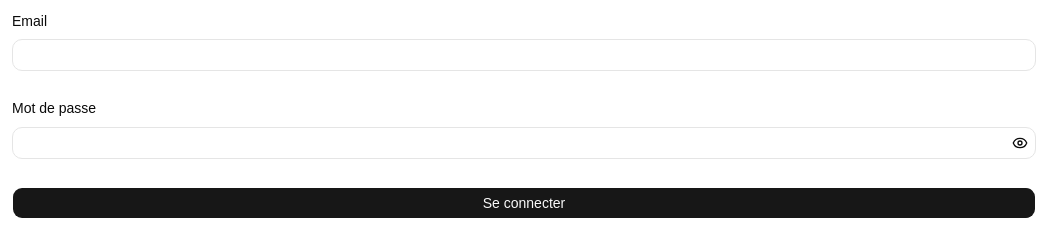
Test: LoginForm › refuses an empty password without submitting
Type "ada@example.com" into the field labelled "Email".
click(524, 55); type("ada@example.com")  # box [12,39,1036,71]
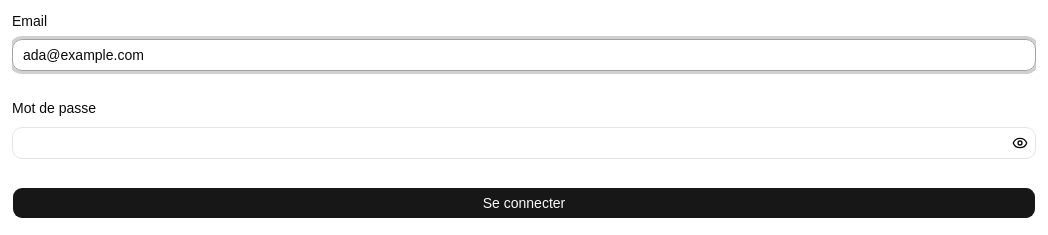
Click the button "Se connecter".
click(524, 202)  # box [12,186,1036,218]
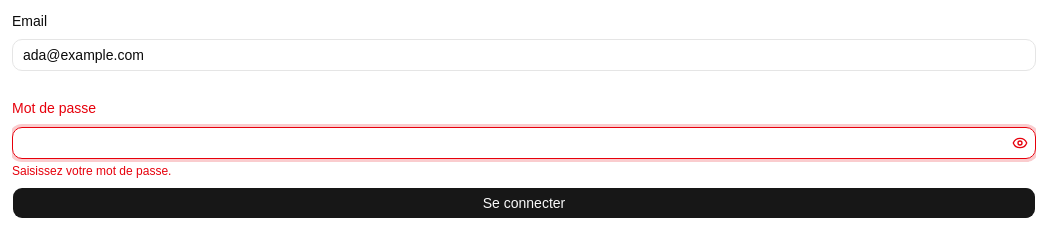
Result: the text "Saisissez votre mot de passe." is shown at [12,164,171,178]
